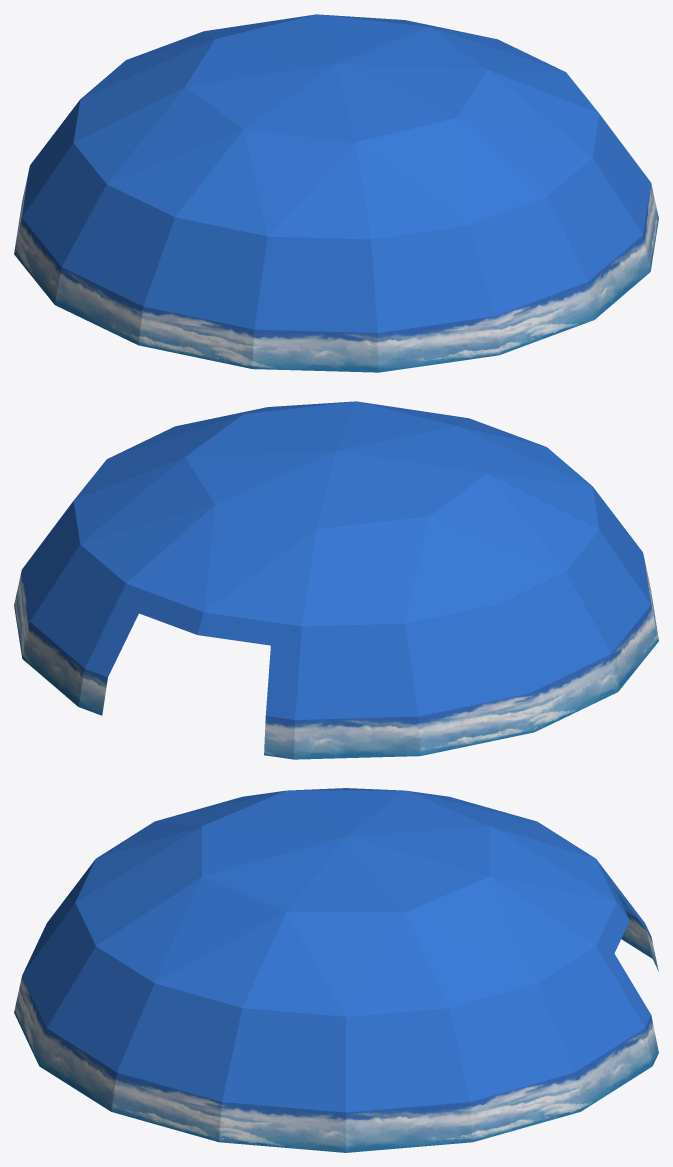
3 views of the same model, one above another, from view 1: azimuth 30°, elevation 25°; view 2: azimuth 150°, elevation 25°; view 3: azimuth 270°, elevation 25° (orthographic). The views are drawn at different scales.
Visible parts, largest first — view 1: s03_dn_05_1, s03_dn_05_0; view 2: s03_dn_05_1, s03_dn_05_0; view 3: s03_dn_05_1, s03_dn_05_0.
Boxes of the visible parts, x1,y1,x2,y2 form: s03_dn_05_1: (22, 14, 650, 332); s03_dn_05_0: (14, 169, 658, 372); s03_dn_05_1: (22, 401, 650, 719); s03_dn_05_0: (14, 556, 658, 759); s03_dn_05_1: (22, 788, 650, 1112); s03_dn_05_0: (14, 911, 658, 1152).
Size of the model in its own units: 100000 by 29220 by 97145.
